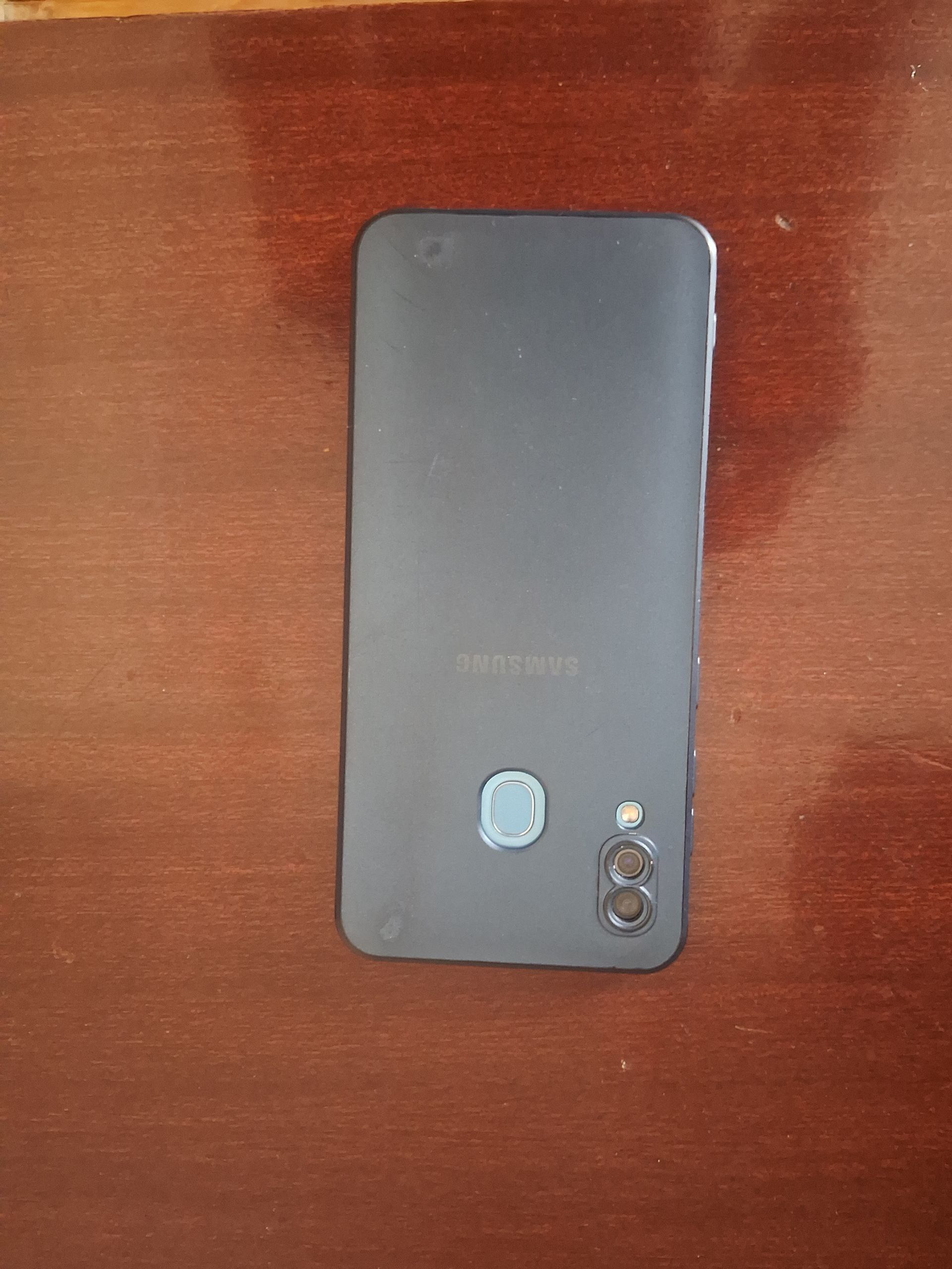Smart_phone: (313, 189, 735, 983)
